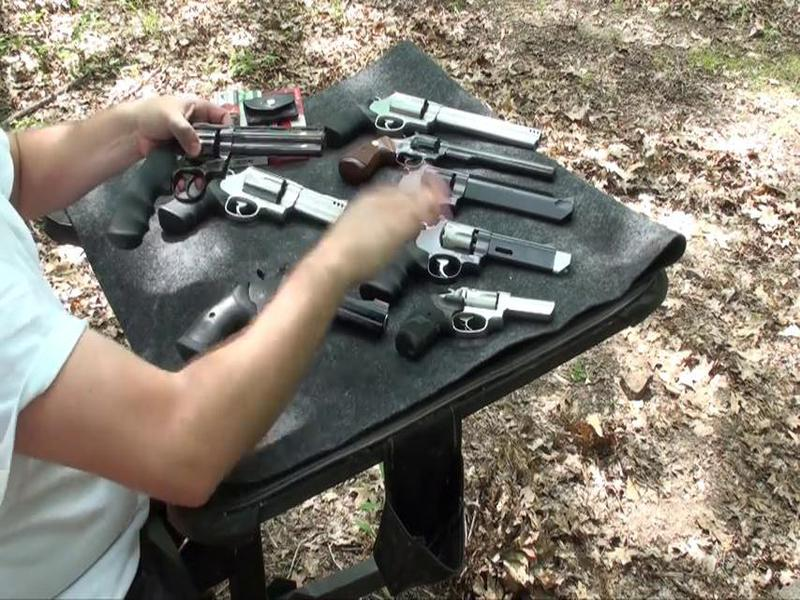Revolver: (90, 80, 346, 267)
